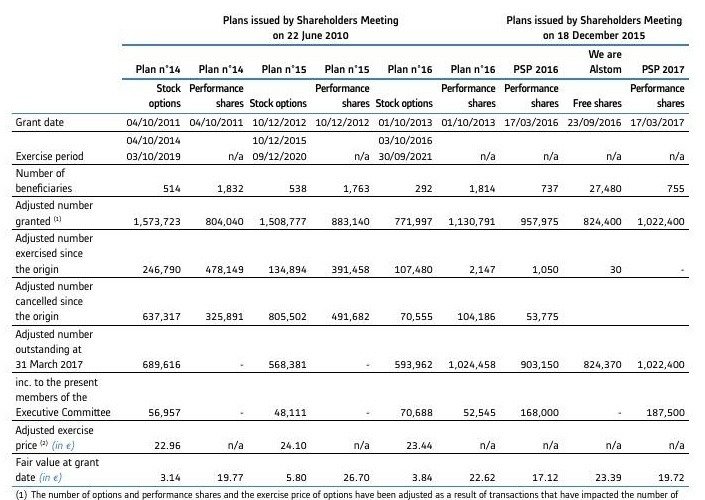table: (0, 0, 705, 500)
